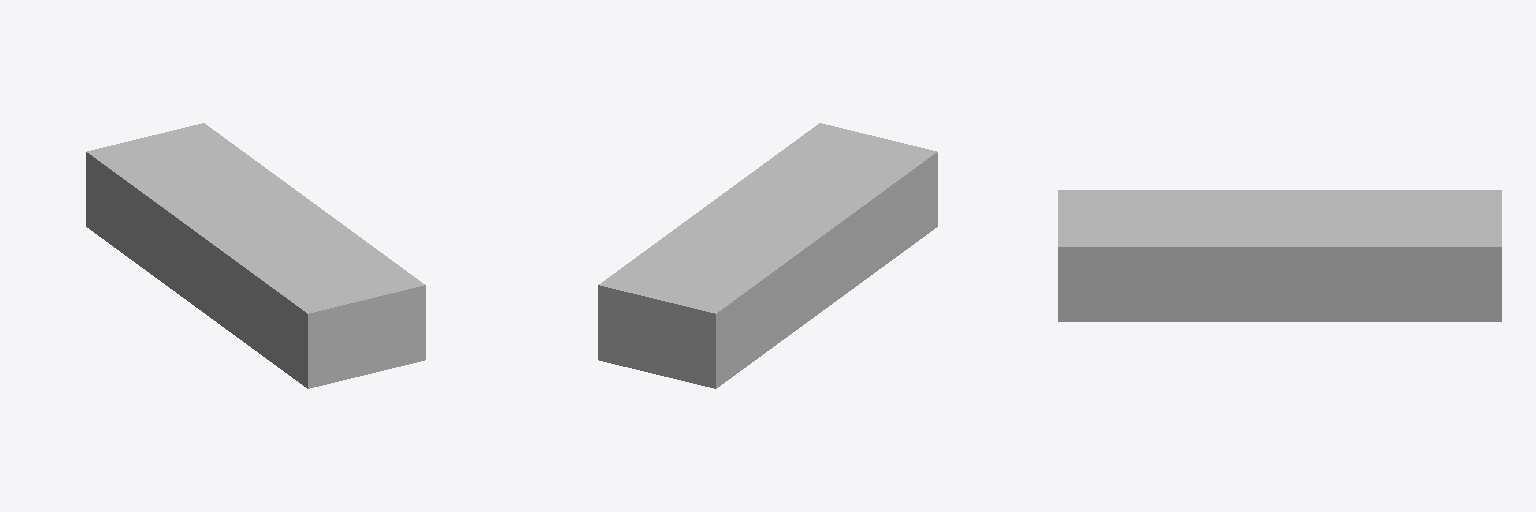
The model's file is LeftColl.obj.
3 views of the same model, side by side, from view 1: azimuth 30°, elevation 25°; view 2: azimuth 150°, elevation 25°; view 3: azimuth 270°, elevation 25° (orthographic).
Visible parts, largest first — view 1: Box01; view 2: Box01; view 3: Box01.
Boxes of the visible parts, box(x1,y1,x2,y2) form: Box01: box(86, 123, 425, 388); Box01: box(598, 123, 937, 388); Box01: box(1058, 190, 1501, 321).
Size of the model in its own units: 0.36 by 0.2196 by 1.17.